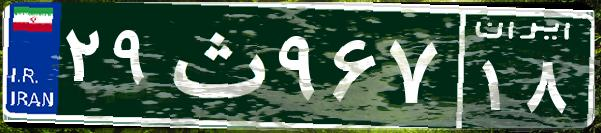1: (475, 38, 525, 113)
2: (57, 26, 110, 107)
6: (330, 28, 385, 110)
7: (385, 28, 445, 110)
8: (525, 38, 570, 115)
9: (273, 28, 330, 110), (110, 28, 158, 105)
ث: (158, 15, 273, 115)
